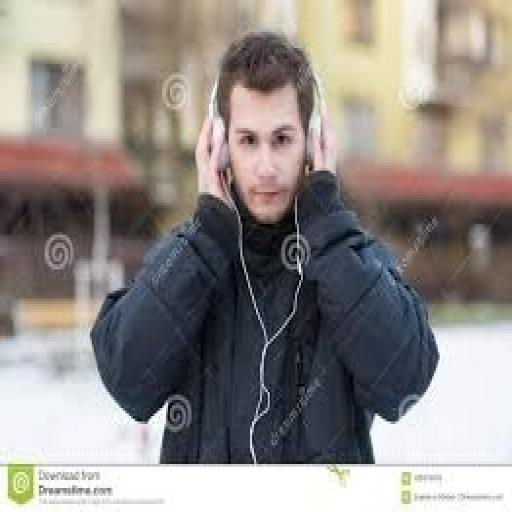listening_to_music: (88, 27, 442, 464)
